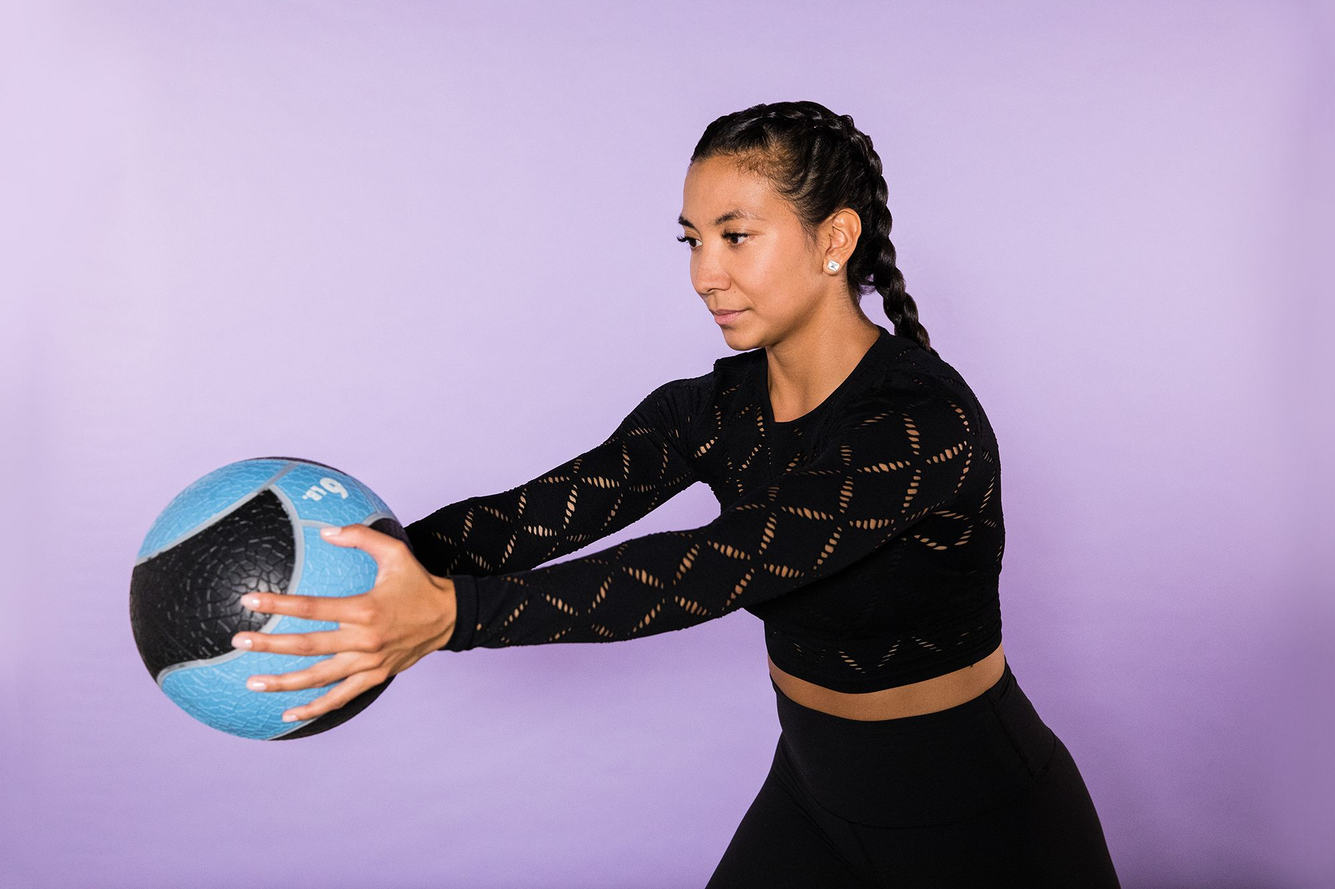sphere: (129, 457, 405, 741)
